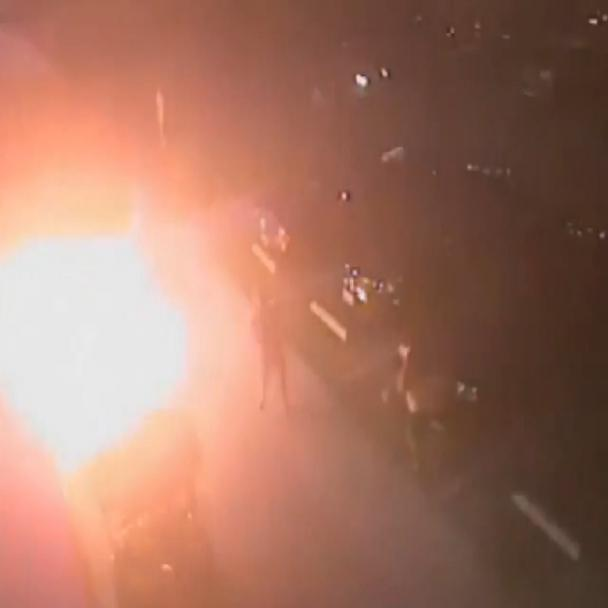Fire: (0, 165, 205, 607)
